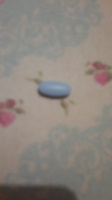Apranax: (37, 80, 72, 99)
